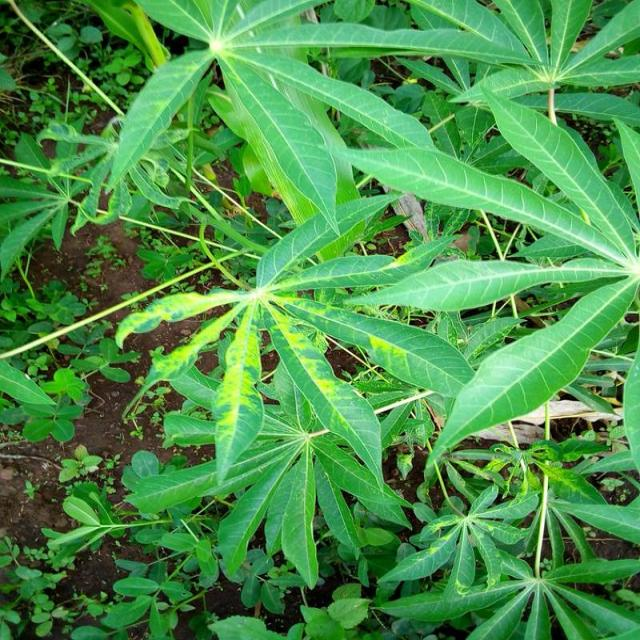cassava leaf: (5, 0, 639, 635)
